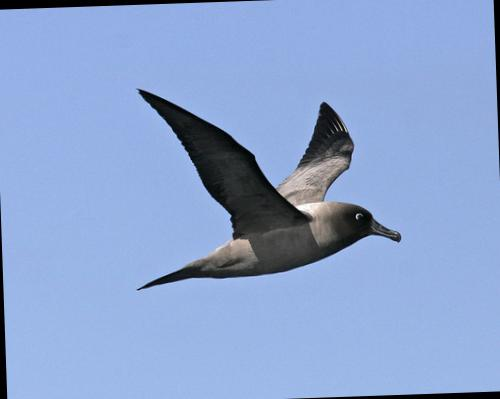bird: (112, 64, 412, 306)
